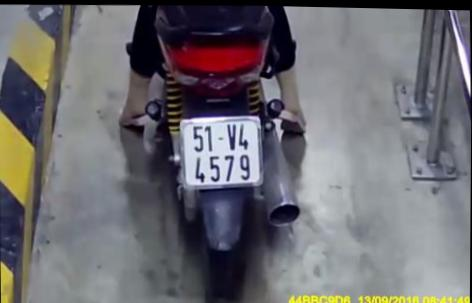LP: (178, 111, 265, 189)
